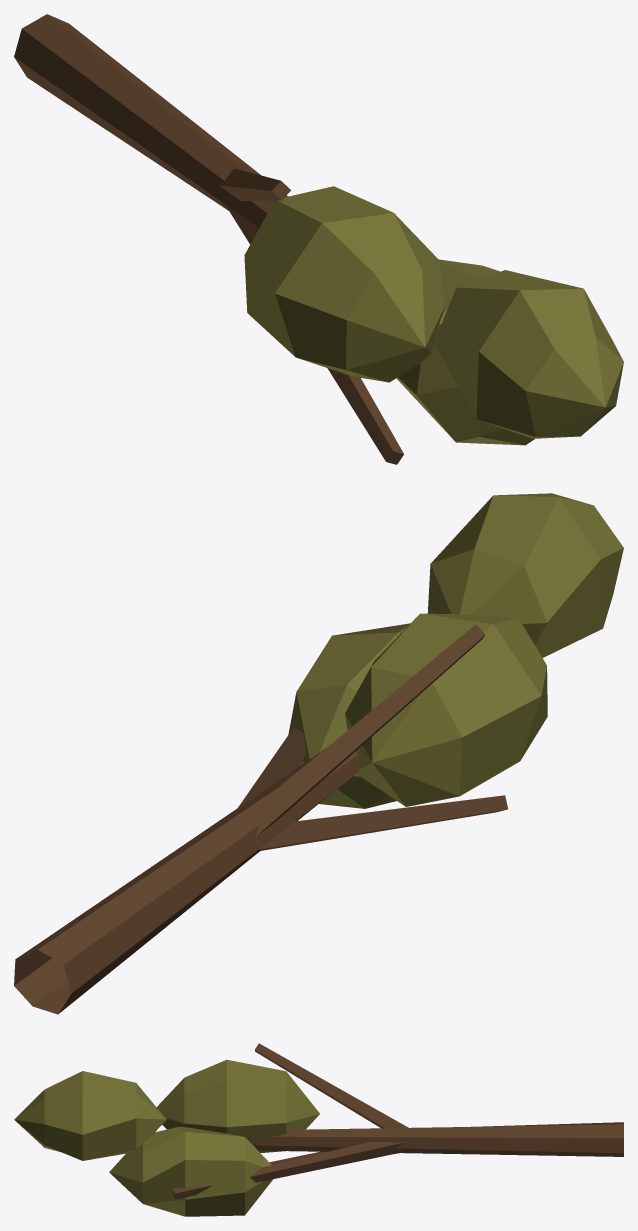
Rendered from dying_1.glb.
3 renders of one model, top to bottom at view 1: azimuth 30°, elevation 25°; view 2: azimuth 150°, elevation 25°; view 3: azimuth 270°, elevation 25°, orthographic. The views are drawn at different scales.
Visible parts, largest first — view 1: tree_00_dying_1; view 2: tree_00_dying_1; view 3: tree_00_dying_1.
Part boxes in pixels (box(x1,y1,x2,y2)): tree_00_dying_1: box(14, 14, 623, 464); tree_00_dying_1: box(14, 493, 623, 1014); tree_00_dying_1: box(14, 1043, 623, 1216).
Size of the model in its own units: 9.89 by 9.01 by 36.79.
